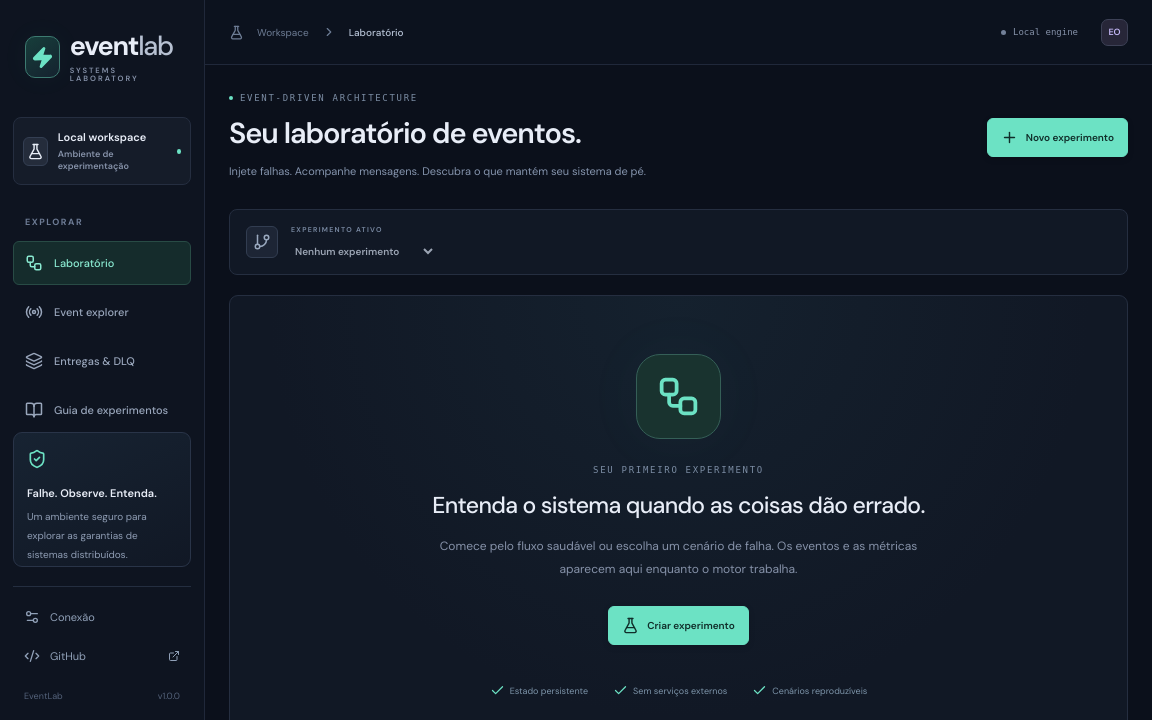
Test: opens a validated experiment form and lets the user choose a scenario
Expected: the heading "Entenda o sistema quando as coisas dão errado." is shown, [432,490,925,520]
Click the button "Novo experimento".
click(1057, 137)  # box [987,118,1128,157]
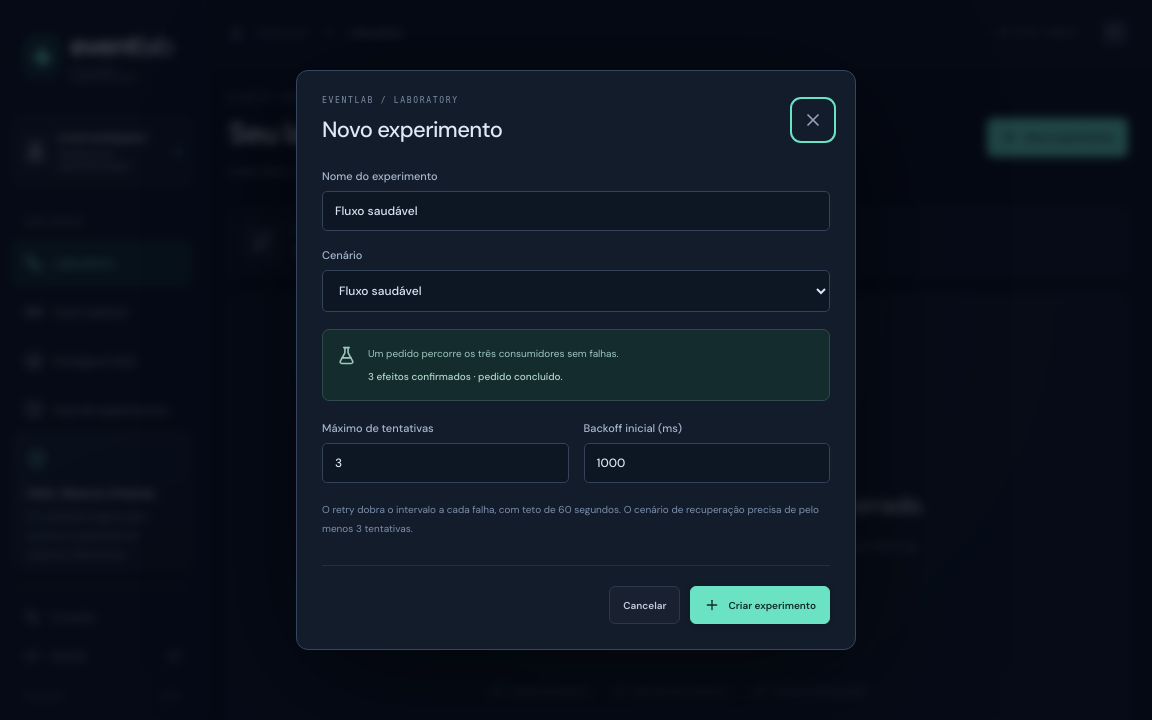
Expected: the dialog is shown, [296,70,856,650]
Select "ACK perdido" in the dropdown labelled "Cenário" at (576,291), box [322,270,830,312]
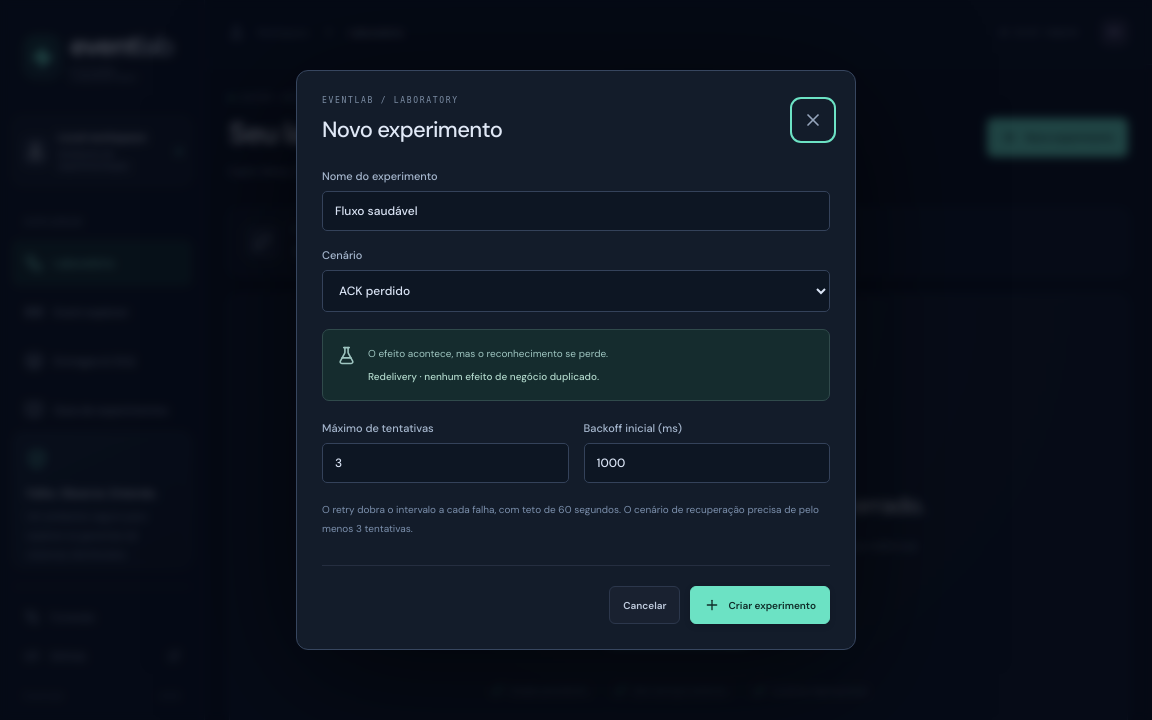
Expected: the number field labelled "Máximo de tentativas" holds "3", [322,443,568,483]
Expected: the text "Redelivery · nenhum efeito de negócio duplicado." is shown, [368,367,608,386]
